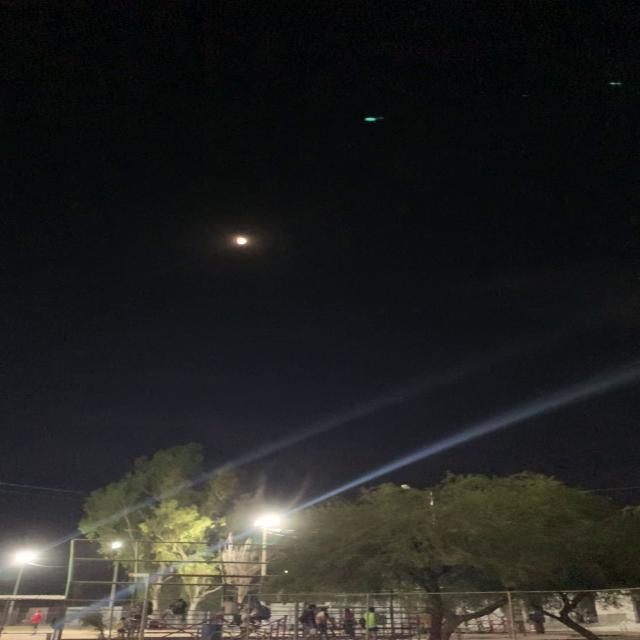moon: (228, 233, 258, 255)
